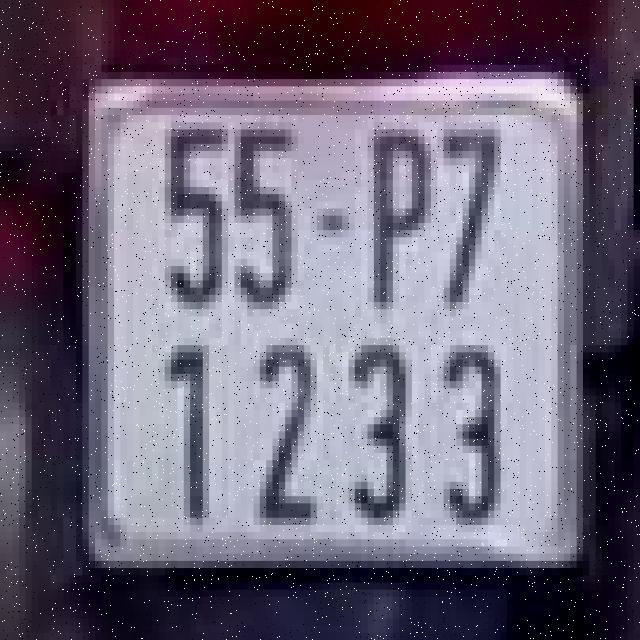1: (146, 327, 228, 536)
2: (241, 334, 323, 543)
3: (342, 331, 425, 525), (434, 331, 510, 532)
5: (152, 108, 228, 323), (235, 104, 304, 327)
7: (431, 111, 507, 313)
P: (361, 119, 437, 320)
